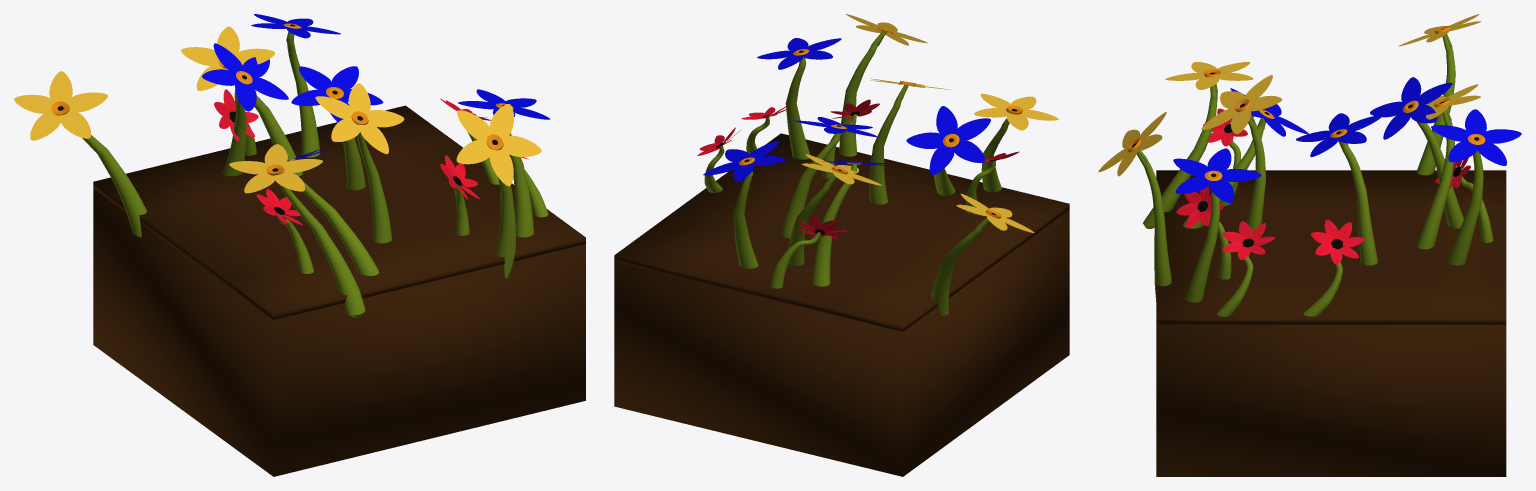
Rendered from flowers.fbx.
3 renders of one model, left to right at view 1: azimuth 30°, elevation 25°; view 2: azimuth 150°, elevation 25°; view 3: azimuth 270°, elevation 25°, orthographic. The views are drawn at different scales.
Parts seen in each view (by area): view 1: dirtcube, flowerplane, flowerplane|flowerstem|Dupli|, flowerplane|flowerstem|Dupli|12, flowerplane|flowerstem|Dupli|6, flowerplane|flowerstem|Dupli|9, flowerplane|flowerstem2|Dupli|1, flowerplane|flowerstem2|Dupli|10, flowerplane|flowerstem|Dupli|3, flowerplane|flowerstem2|Dupli|4, flowerplane|flowerstem2|Dupli|13, flowerplane|flowerstem2|Dupli|7 (+3 smaller); view 2: dirtcube, flowerplane, flowerplane|flowerstem2|Dupli|7, flowerplane|flowerstem2|Dupli|4, flowerplane|flowerstem2|Dupli|13, flowerplane|flowerstem|Dupli|6, flowerplane|flowerstem|Dupli|, flowerplane|flowerstem|Dupli|12, flowerplane|flowerstem2|Dupli|10, flowerplane|flowerstem|Dupli|3, flowerplane|flowerstem|Dupli|9, flowerplane|flowerstem2|Dupli|1 (+5 smaller); view 3: dirtcube, flowerplane, flowerplane|flowerstem2|Dupli|4, flowerplane|flowerstem2|Dupli|13, flowerplane|flowerstem2|Dupli|1, flowerplane|flowerstem|Dupli|9, flowerplane|flowerstem2|Dupli|10, flowerplane|flowerstem|Dupli|12, flowerplane|flowerstem|Dupli|6, flowerplane|flowerstem|Dupli|3, flowerplane|flowerstem3|Dupli|14, flowerplane|flowerstem3|Dupli|11 (+5 smaller).
Boxes of the visible parts, box(x1,y1,x2,y2) form: dirtcube: box(93, 188, 585, 476); flowerplane: box(93, 105, 585, 319); flowerplane|flowerstem|Dupli|: box(14, 71, 146, 237); flowerplane|flowerstem|Dupli|12: box(456, 104, 541, 278); flowerplane|flowerstem|Dupli|6: box(229, 144, 365, 317); flowerplane|flowerstem|Dupli|9: box(315, 83, 404, 243); flowerplane|flowerstem2|Dupli|1: box(202, 43, 288, 176); flowerplane|flowerstem2|Dupli|10: box(291, 66, 383, 190); flowerplane|flowerstem|Dupli|3: box(181, 26, 302, 176); flowerplane|flowerstem2|Dupli|4: box(251, 14, 340, 157); flowerplane|flowerstem2|Dupli|13: box(458, 89, 550, 237); flowerplane|flowerstem2|Dupli|7: box(243, 149, 379, 275); dirtcube: box(614, 210, 1069, 476); flowerplane: box(614, 133, 1069, 331); flowerplane|flowerstem2|Dupli|7: box(906, 106, 990, 195); flowerplane|flowerstem2|Dupli|4: box(703, 140, 785, 268); flowerplane|flowerstem2|Dupli|13: box(757, 38, 841, 159); flowerplane|flowerstem|Dupli|6: box(974, 93, 1058, 192); flowerplane|flowerstem|Dupli|: box(931, 193, 1034, 315); flowerplane|flowerstem|Dupli|12: box(839, 14, 927, 156); flowerplane|flowerstem2|Dupli|10: box(781, 117, 877, 238); flowerplane|flowerstem|Dupli|3: box(788, 154, 882, 265); flowerplane|flowerstem|Dupli|9: box(869, 78, 950, 204); flowerplane|flowerstem2|Dupli|1: box(809, 160, 891, 286); dirtcube: box(1156, 324, 1506, 476); flowerplane: box(1156, 170, 1506, 324); flowerplane|flowerstem2|Dupli|4: box(1431, 109, 1521, 265); flowerplane|flowerstem2|Dupli|13: box(1173, 148, 1261, 302); flowerplane|flowerstem2|Dupli|1: box(1370, 77, 1463, 228); flowerplane|flowerstem|Dupli|9: box(1201, 75, 1282, 245); flowerplane|flowerstem2|Dupli|10: box(1296, 113, 1382, 265); flowerplane|flowerstem|Dupli|12: box(1098, 112, 1171, 301); flowerplane|flowerstem|Dupli|6: box(1143, 62, 1253, 228); flowerplane|flowerstem|Dupli|3: box(1416, 84, 1480, 249); flowerplane|flowerstem3|Dupli|14: box(1303, 219, 1364, 316); flowerplane|flowerstem3|Dupli|11: box(1217, 221, 1274, 316).
Size of the model in its own units: 66.37 by 48.39 by 60.51.
